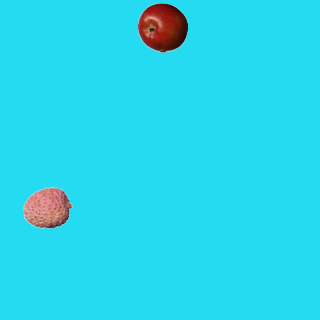Apple Braeburn: (137, 2, 187, 52)
Lychee: (22, 182, 72, 232)
